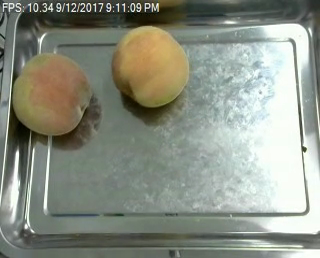Peach: (11, 51, 92, 136), (112, 25, 188, 107)
